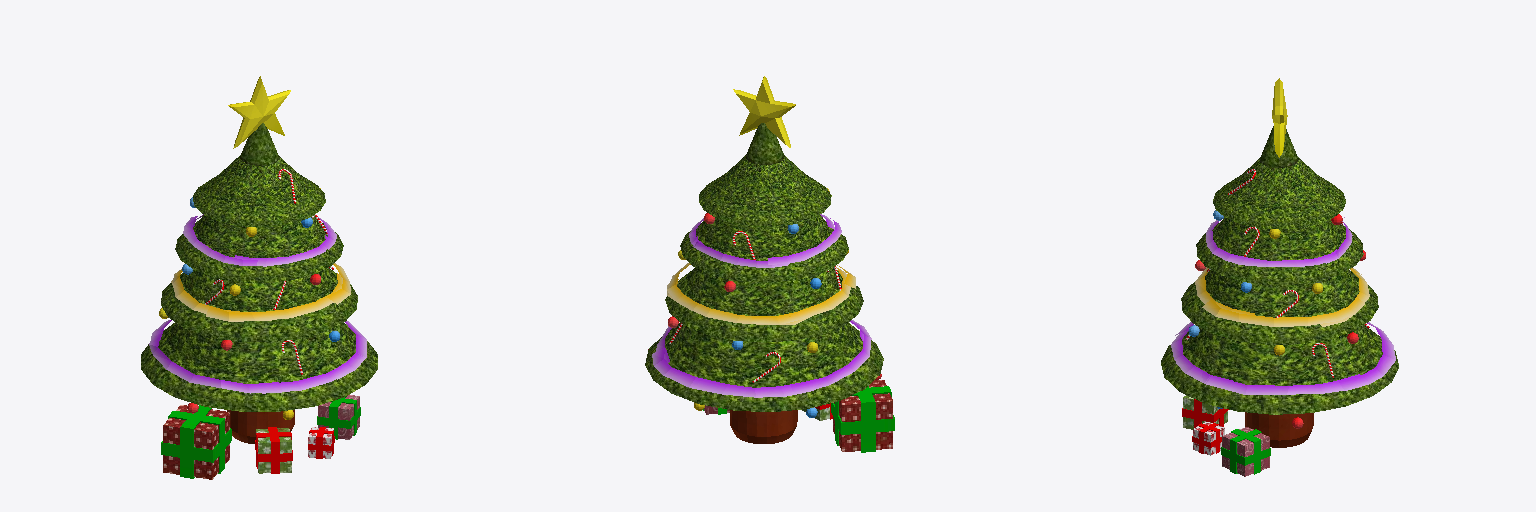
3 views of the same model, side by side, from view 1: azimuth 30°, elevation 25°; view 2: azimuth 150°, elevation 25°; view 3: azimuth 270°, elevation 25° (orthographic).
Visible parts, largest first — view 1: tree_brush_S2_4:Group2, tree_brush_S2_3:Group2, tree_brush_S2_2:Group2, tree_brush_S2_1:Group2, wrapping_ribbons:Group2, pCube1, polySurface1, polySurface10, tree_pot_OBJ:Group2, polySurface4, tree_trunk_OBJ:Group2, Group9 (+8 smaller); view 2: tree_brush_S2_4:Group2, tree_brush_S2_3:Group2, tree_brush_S2_2:Group2, tree_brush_S2_1:Group2, tree_pot_OBJ:Group2, wrapping_ribbons:Group2, polySurface1, pCube1, polySurface8, tree_trunk_OBJ:Group2, polySurface12, polySurface10 (+3 smaller); view 3: tree_brush_S2_4:Group2, tree_brush_S2_3:Group2, tree_brush_S2_2:Group2, tree_brush_S2_1:Group2, tree_pot_OBJ:Group2, polySurface9, polySurface11, Group3, polySurface8, pCube4, polySurface14, polySurface1 (+2 smaller).
Part boxes in pixels (bbox=[...]): tree_brush_S2_4:Group2: bbox=[141, 322, 377, 411]; tree_brush_S2_3:Group2: bbox=[161, 268, 357, 341]; tree_brush_S2_2:Group2: bbox=[175, 215, 343, 282]; tree_brush_S2_1:Group2: bbox=[193, 155, 325, 226]; wrapping_ribbons:Group2: bbox=[161, 405, 231, 478]; pCube1: bbox=[163, 405, 229, 479]; polySurface1: bbox=[228, 76, 290, 148]; polySurface10: bbox=[149, 333, 282, 393]; tree_pot_OBJ:Group2: bbox=[227, 410, 294, 443]; polySurface4: bbox=[206, 273, 342, 321]; tree_trunk_OBJ:Group2: bbox=[240, 123, 278, 165]; Group9: bbox=[255, 427, 292, 473]; tree_brush_S2_4:Group2: bbox=[645, 322, 883, 411]; tree_brush_S2_3:Group2: bbox=[665, 267, 863, 342]; tree_brush_S2_2:Group2: bbox=[680, 215, 848, 282]; tree_brush_S2_1:Group2: bbox=[699, 155, 831, 226]; tree_pot_OBJ:Group2: bbox=[730, 410, 797, 443]; wrapping_ribbons:Group2: bbox=[831, 386, 894, 452]; polySurface1: bbox=[733, 76, 795, 147]; pCube1: bbox=[833, 380, 892, 451]; polySurface8: bbox=[652, 348, 813, 397]; tree_trunk_OBJ:Group2: bbox=[746, 123, 784, 164]; polySurface12: bbox=[752, 267, 850, 324]; polySurface10: bbox=[791, 320, 871, 393]; tree_brush_S2_4:Group2: bbox=[1161, 325, 1398, 414]; tree_brush_S2_3:Group2: bbox=[1181, 270, 1378, 344]; tree_brush_S2_2:Group2: bbox=[1196, 217, 1363, 284]; tree_brush_S2_1:Group2: bbox=[1213, 157, 1345, 229]; tree_pot_OBJ:Group2: bbox=[1245, 412, 1313, 447]; polySurface9: bbox=[1176, 358, 1359, 394]; polySurface11: bbox=[1202, 298, 1364, 326]; Group3: bbox=[1221, 429, 1270, 474]; polySurface8: bbox=[1338, 322, 1395, 390]; pCube4: bbox=[1222, 427, 1269, 476]; polySurface14: bbox=[1212, 248, 1340, 266]; polySurface1: bbox=[1272, 78, 1287, 157].
Bounding box in the file's own units: 29.89 × 46.26 × 27.92.
1 materials, 1 textured.